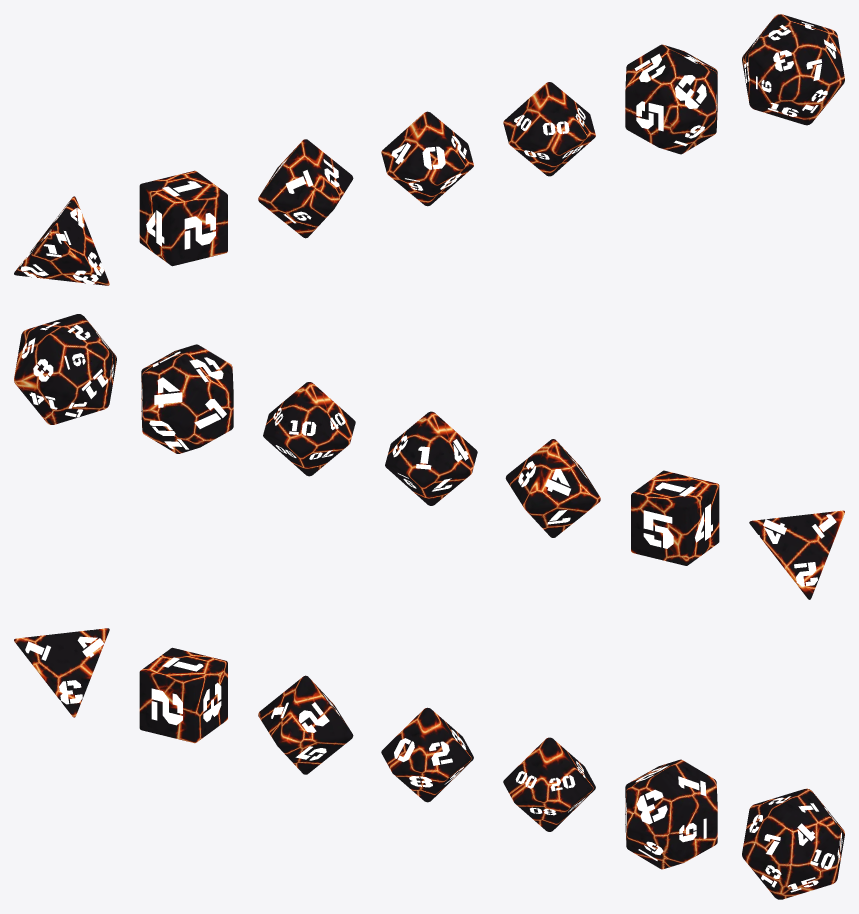
Rendered from molten-obsidian.glb.
3 renders of one model, top to bottom at view 1: azimuth 30°, elevation 25°; view 2: azimuth 150°, elevation 25°; view 3: azimuth 330°, elevation 25°, orthographic.
Visible parts, largest first — view 1: d20, d12, d6, d100, d10, d8, d4; view 2: d20, d12, d6, d100, d10, d8, d4; view 3: d20, d12, d6, d8, d100, d10, d4.
Part boxes in pixels (x1,y1,x2,y2): d20: [742, 14, 844, 125]; d12: [625, 44, 717, 154]; d6: [139, 170, 227, 266]; d100: [503, 82, 595, 176]; d10: [381, 111, 473, 206]; d8: [258, 139, 353, 238]; d4: [14, 196, 109, 285]; d20: [14, 314, 116, 424]; d12: [141, 344, 233, 453]; d6: [631, 470, 719, 565]; d100: [263, 382, 355, 476]; d10: [385, 411, 477, 505]; d8: [505, 439, 600, 537]; d4: [749, 510, 844, 599]; d20: [742, 788, 844, 899]; d12: [625, 759, 717, 869]; d6: [139, 647, 227, 743]; d8: [258, 675, 353, 774]; d100: [503, 737, 595, 831]; d10: [381, 707, 473, 802]; d4: [14, 628, 109, 717].
Bounding box in the file's own units: 21.14 × 2.47 × 2.47.
14 materials, 7 textured.
